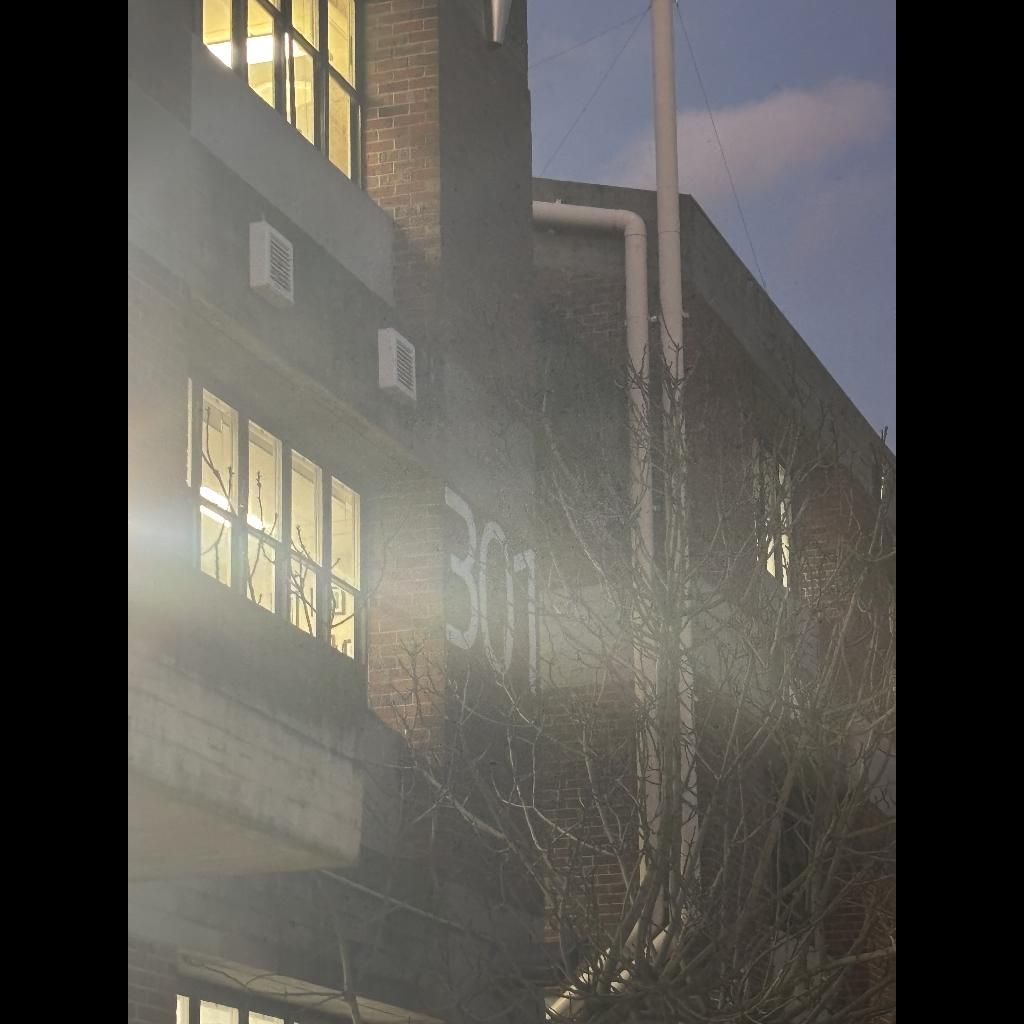BuildingCodes: (439, 481, 543, 701)
